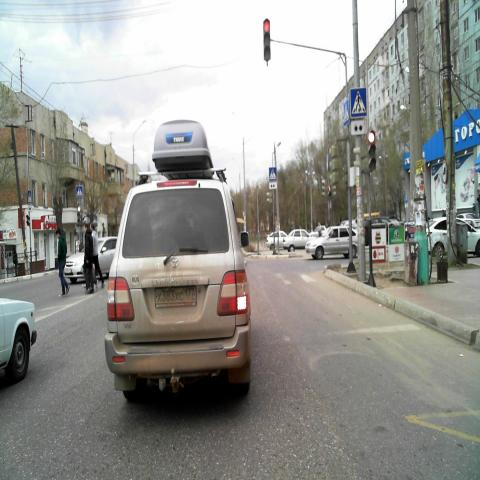8_15: (349, 120, 365, 136)
